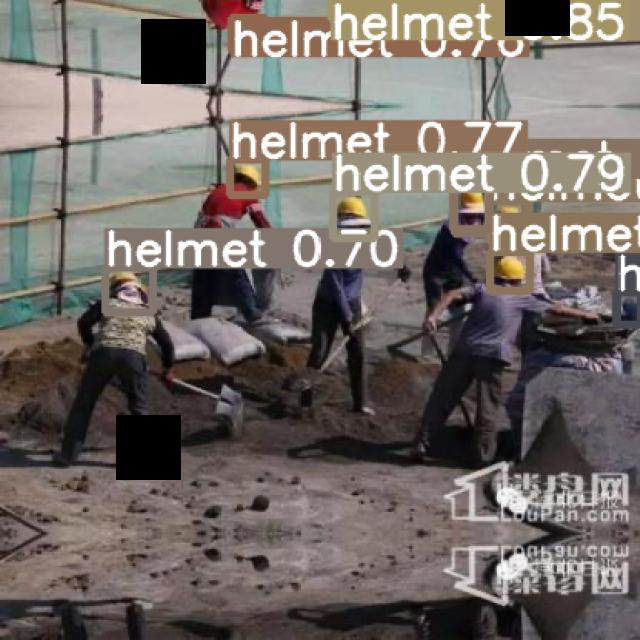helmet: (494, 255, 525, 280), (234, 164, 261, 186), (458, 191, 485, 213)
